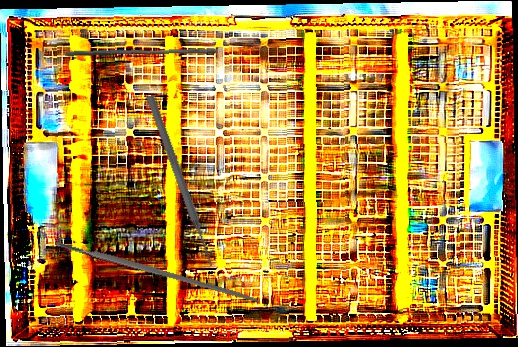Pusher: (143, 93, 218, 269), (64, 43, 217, 62)
Scalpel Handle: (53, 237, 262, 306)
